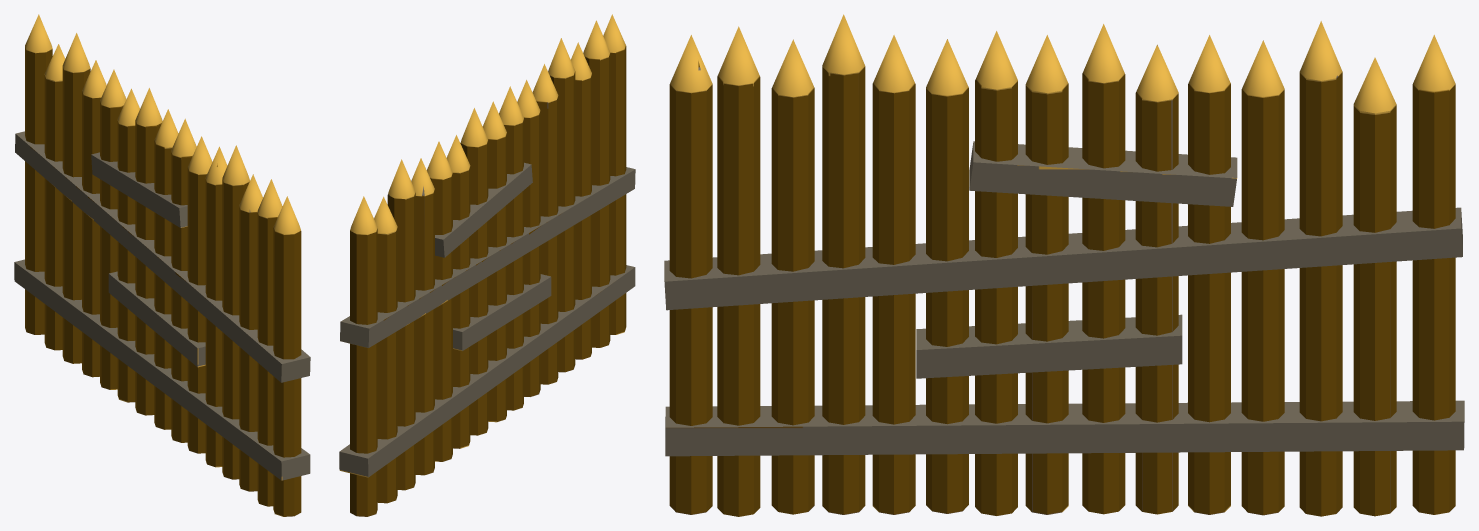
The model's file is Wall_2_Texture.fbx.
3 views of the same model, side by side, from view 1: azimuth 30°, elevation 25°; view 2: azimuth 150°, elevation 25°; view 3: azimuth 270°, elevation 25° (orthographic). The views are drawn at different scales.
Parts seen in each view (by area): view 1: polySurface18; view 2: polySurface18; view 3: polySurface18.
Boxes of the visible parts, box(x1,y1,x2,y2) form: polySurface18: box(14, 14, 310, 516); polySurface18: box(339, 14, 635, 516); polySurface18: box(664, 14, 1464, 516).
Size of the model in its own units: 1.61 by 17.24 by 25.31.
Materials: 1 (1 with a texture image).
